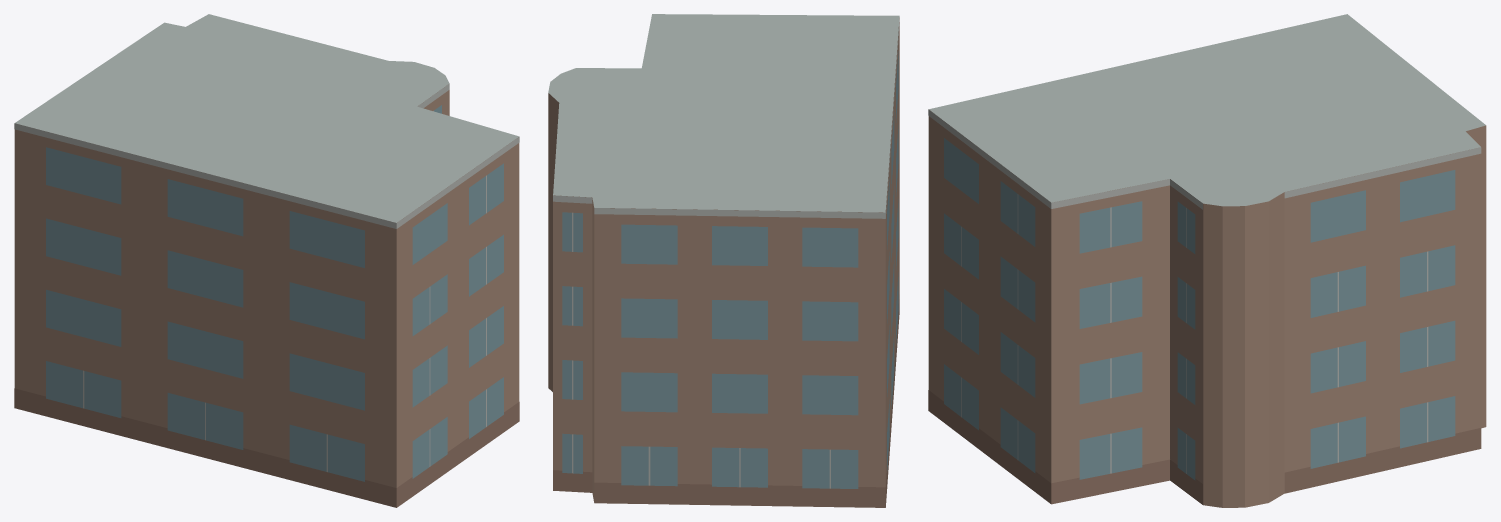
Rendered from survey-upis-32523831.glb.
3 renders of one model, left to right at view 1: azimuth 30°, elevation 25°; view 2: azimuth 150°, elevation 25°; view 3: azimuth 270°, elevation 25°, orthographic. The views are drawn at different scales.
Parts seen in each view (by area): view 1: survey-upis-32523831.tmp; view 2: survey-upis-32523831.tmp; view 3: survey-upis-32523831.tmp.
Part boxes in pixels (bbox=[...]): survey-upis-32523831.tmp: bbox=[14, 14, 519, 507]; survey-upis-32523831.tmp: bbox=[548, 14, 899, 507]; survey-upis-32523831.tmp: bbox=[928, 14, 1486, 507].
Size of the model in its own units: 15.45 by 11.3 by 18.95.
